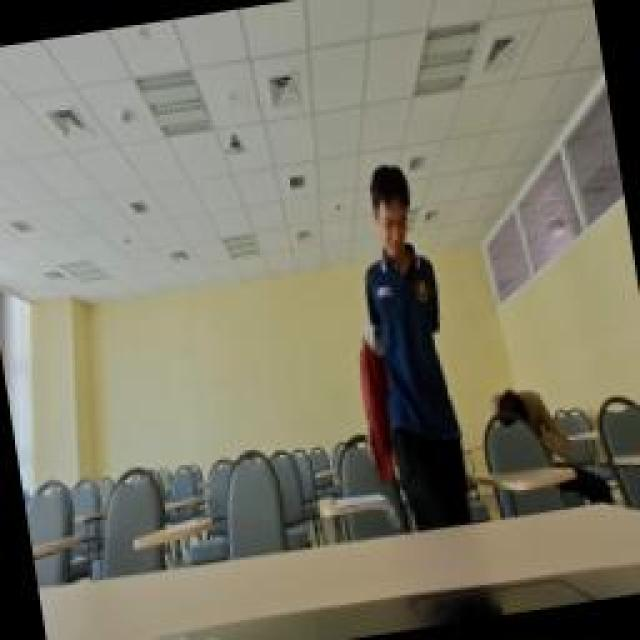sleep: (483, 375, 575, 480)
